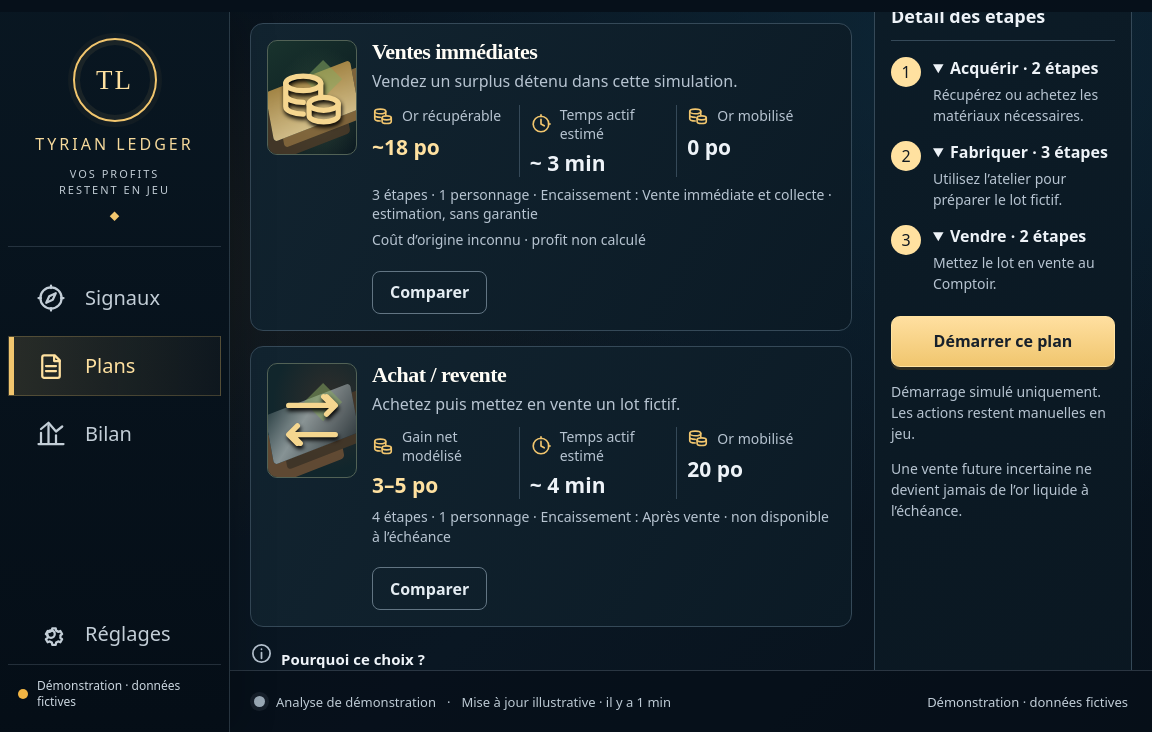
comparison and execution through the fixture provider › provides a normal observed path and one explicit start, with price/total/fees as read-only instructions
(page scrolled)
Click the button "Démarrer ce plan" at (1003, 341), box [891,316,1115,367]
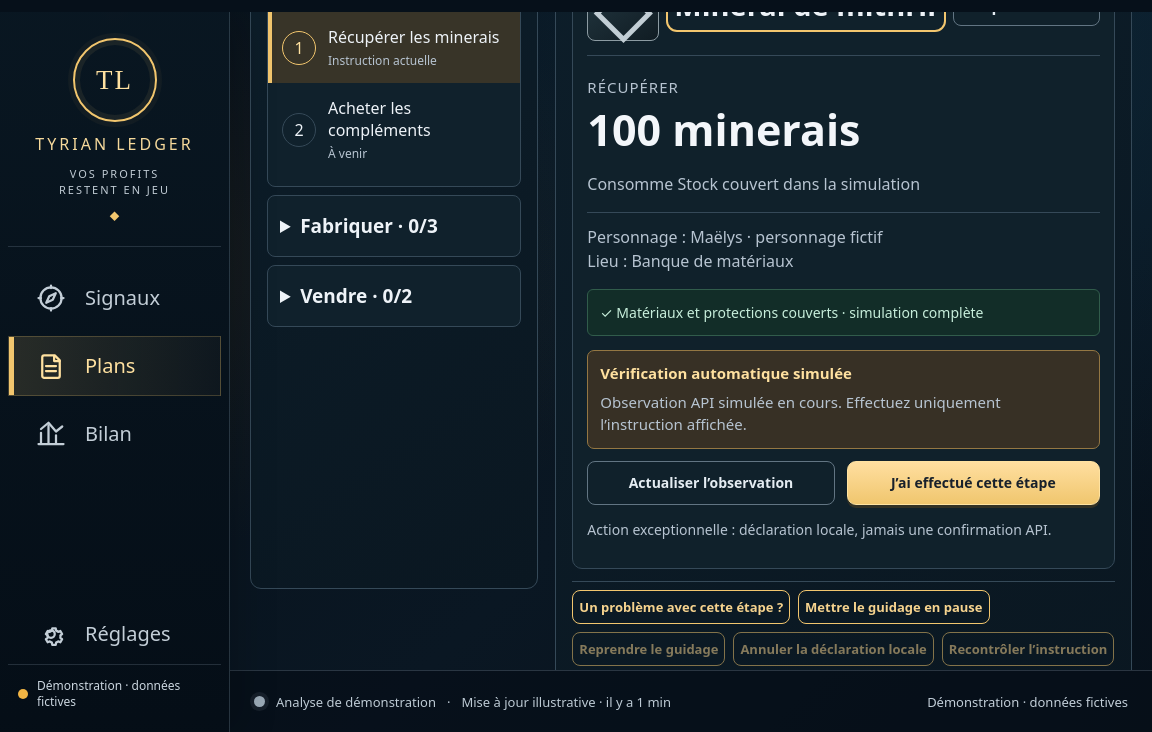
Click the button "Actualiser l’observation" at (711, 483), box [587,461,835,505]
(page scrolled)
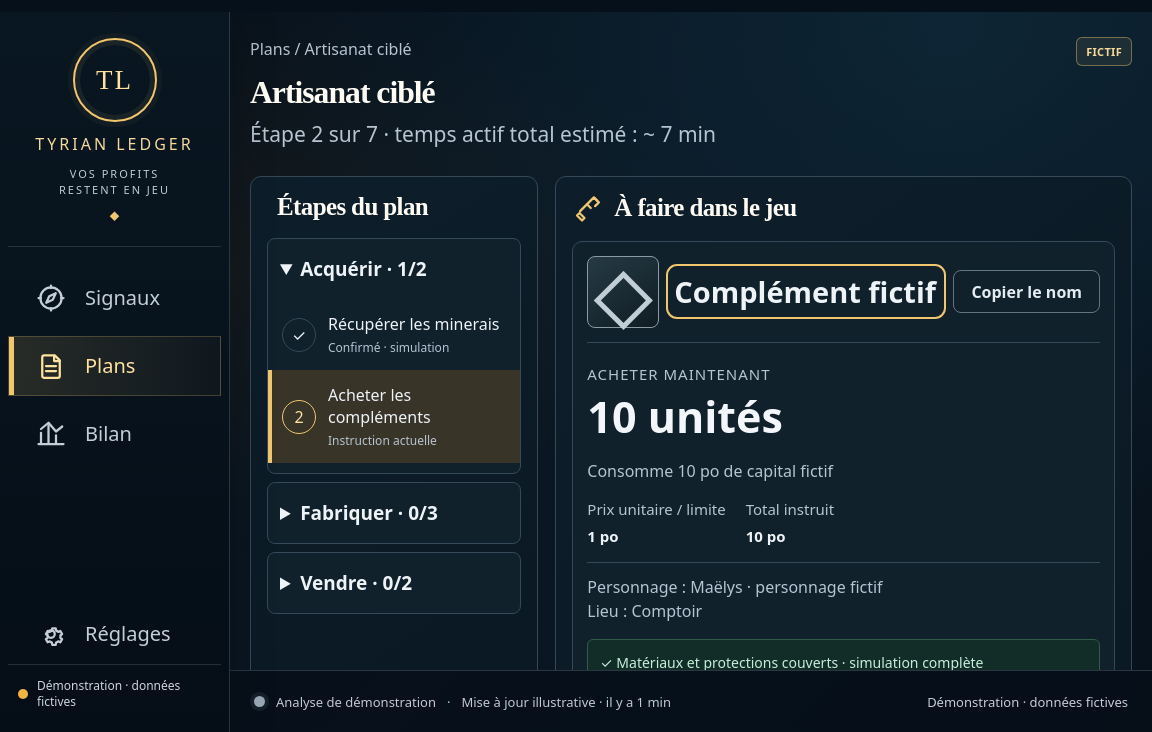
Check: the heading "Complément fictif" is shown, box [674,272,938,311]
Check: the text "Prix unitaire / limite" is shown, box [587,499,726,519]
Check: the text "Total instruit" is shown, box [746,499,834,519]
